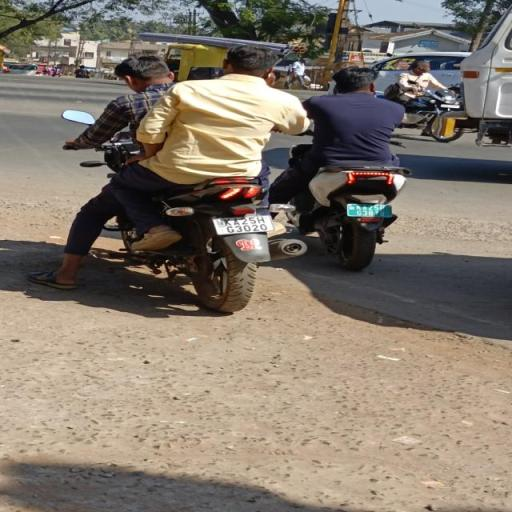bike: (50, 44, 316, 314)
numberplate: (209, 208, 275, 236)
withouthelmet: (118, 58, 174, 87), (228, 46, 275, 76)
